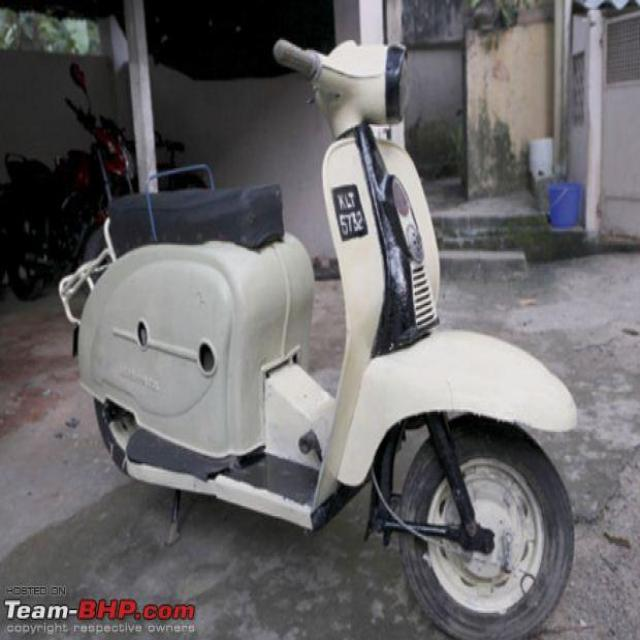motorcycle: (60, 41, 575, 635)
